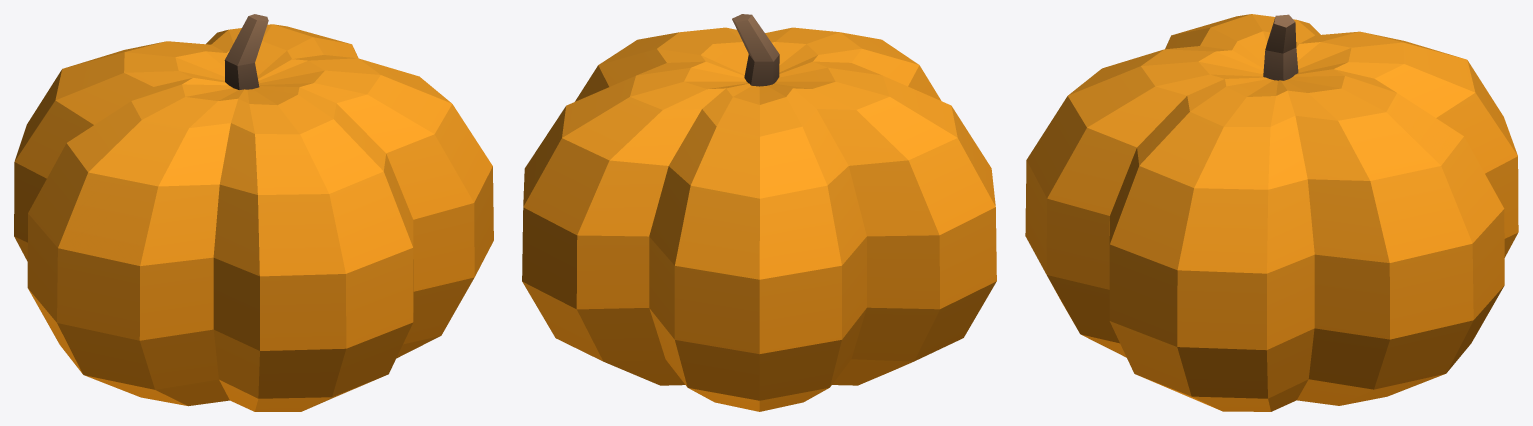
File: pumpkin-orange.glb
3 renders of one model, left to right at view 1: azimuth 30°, elevation 25°; view 2: azimuth 150°, elevation 25°; view 3: azimuth 270°, elevation 25°, orthographic. The views are drawn at different scales.
Visible parts, largest first — view 1: pumpkin orange; view 2: pumpkin orange; view 3: pumpkin orange.
Part boxes in pixels (x1,y1,x2,y2): pumpkin orange: (14, 14, 493, 411); pumpkin orange: (522, 14, 996, 411); pumpkin orange: (1025, 14, 1518, 411).
Bounding box in the file's own units: 0.5791 × 0.4594 × 0.5765.
1 material, 1 textured.
